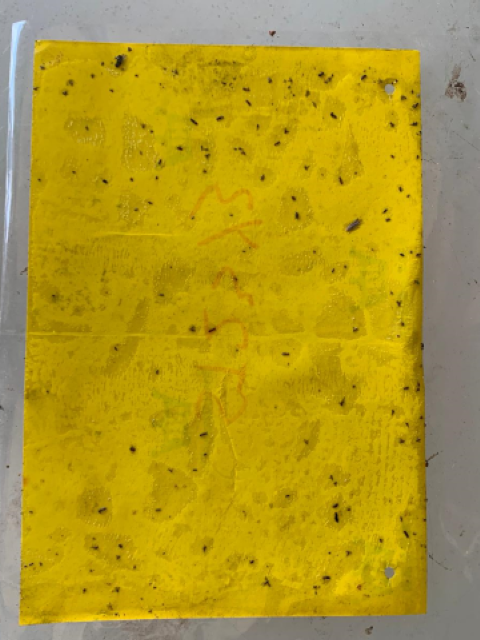DBM: (343, 216, 364, 235)
